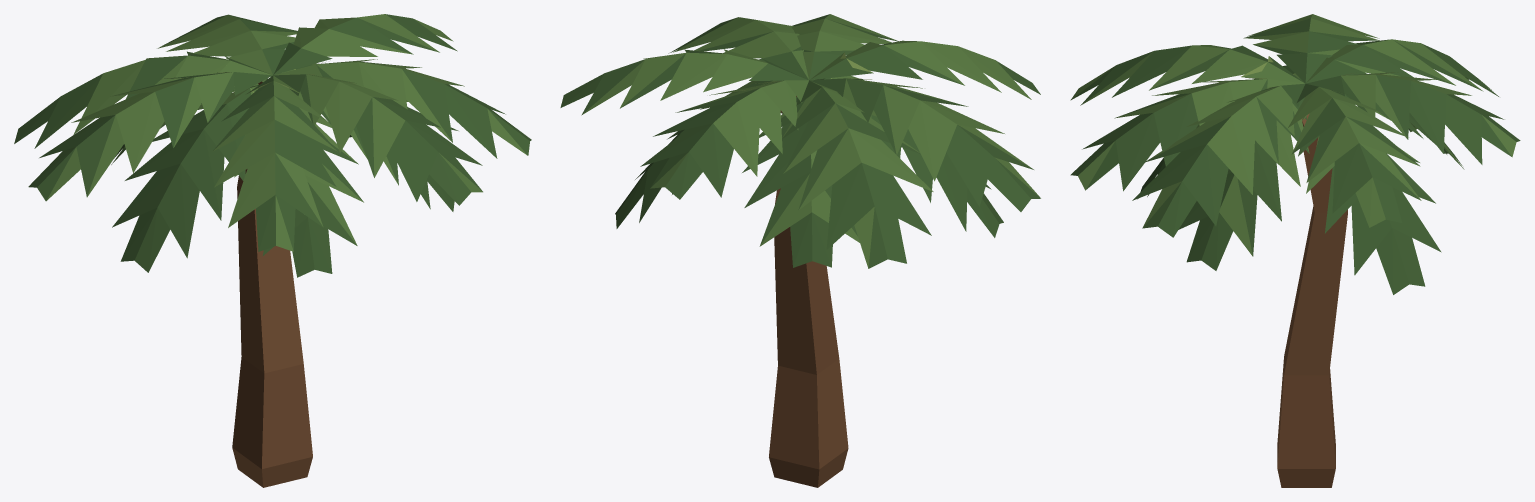
The model's file is tree_palmTall.glb.
The picture shows the model from 3 angles, left to right: view 1: azimuth 30°, elevation 25°; view 2: azimuth 150°, elevation 25°; view 3: azimuth 270°, elevation 25°; orthographic projection.
Parts seen in each view (by area): view 1: tree_palmTall.002; view 2: tree_palmTall.002; view 3: tree_palmTall.002.
Boxes of the visible parts, <box> form: tree_palmTall.002: <box>14,14,531,487</box>; tree_palmTall.002: <box>560,14,1040,487</box>; tree_palmTall.002: <box>1070,14,1520,487</box>.
Bounding box in the file's own units: 2.23 × 2 × 1.98.
